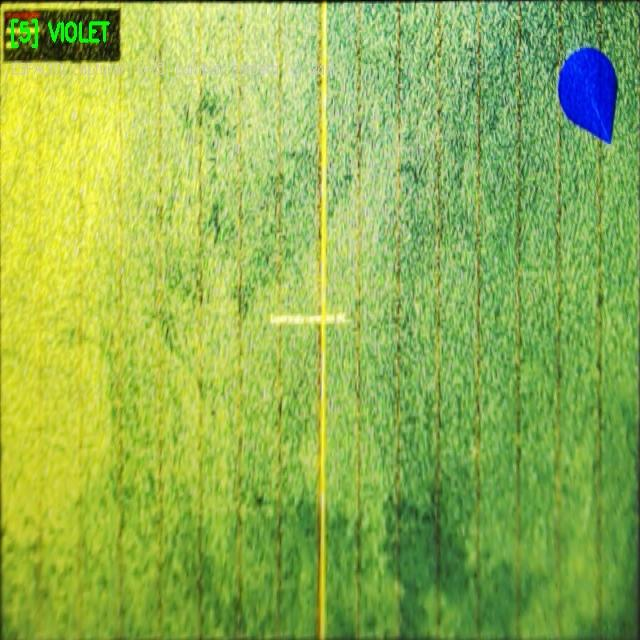violet: (558, 48, 616, 143)
